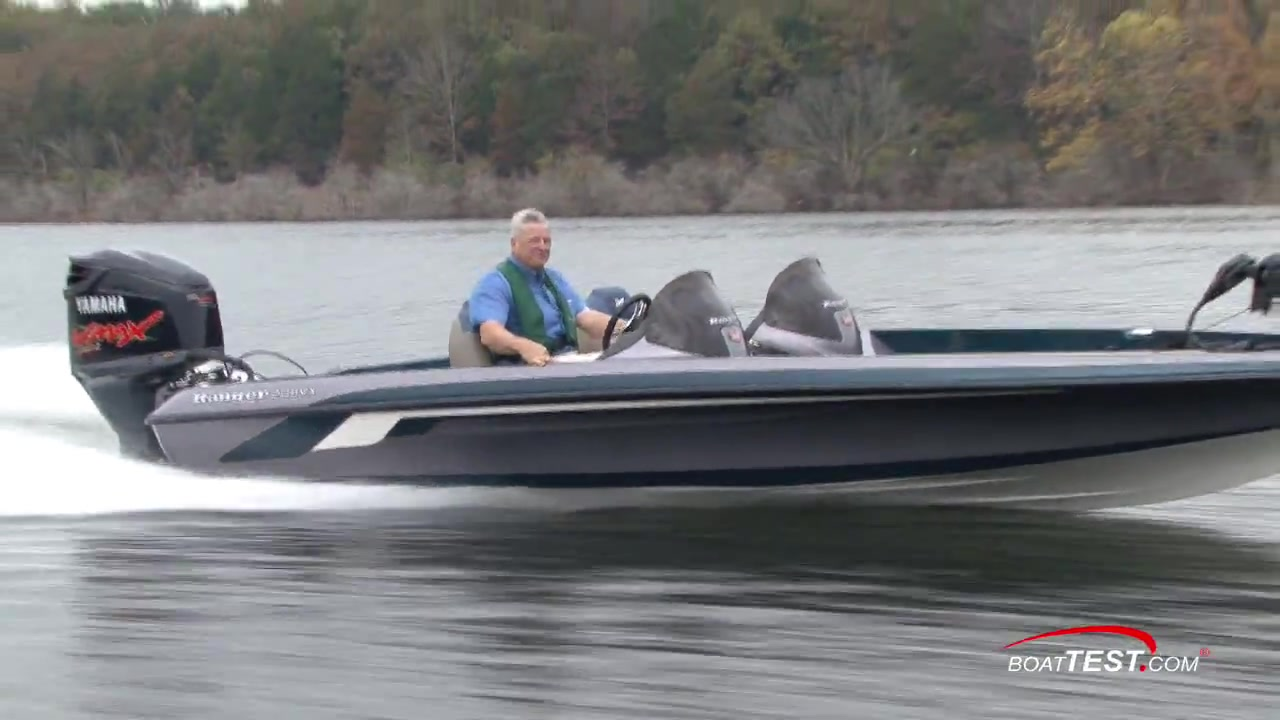boat: (67, 245, 1280, 519)
